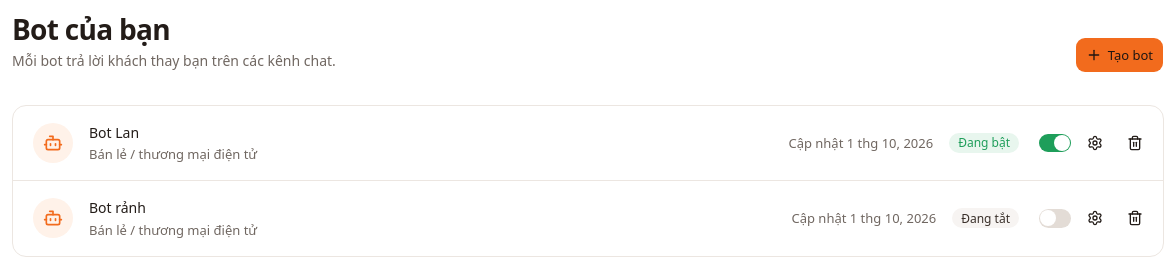
Test: keeps the direct switch pending and prevents duplicate requests
Click the switch named "Bật hoặc tắt bot Bot rảnh": (1055, 218) [1039, 209, 1071, 228]
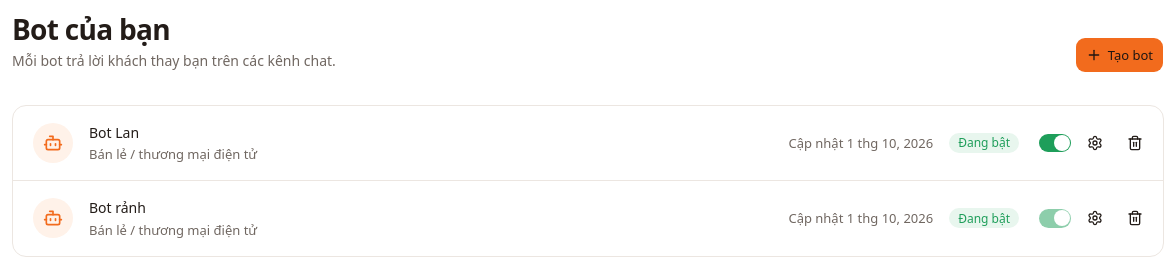
Expected: the switch named "Bật hoặc tắt bot Bot rảnh" is checked
Expected: the switch named "Bật hoặc tắt bot Bot rảnh" is disabled
Click the switch named "Bật hoặc tắt bot Bot rảnh": (1055, 218) [1039, 209, 1071, 228]
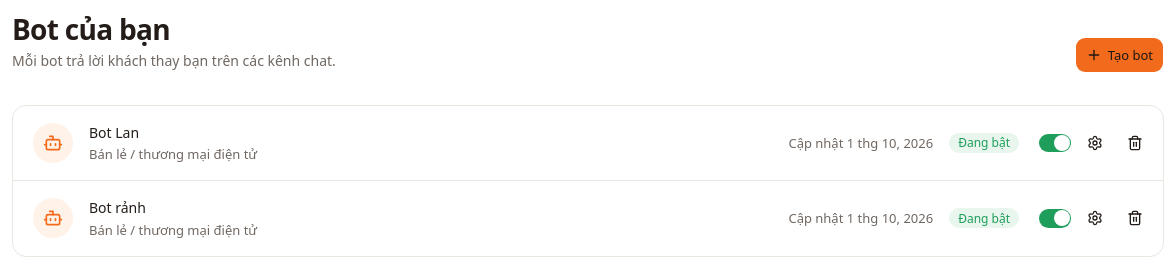
Expected: the switch named "Bật hoặc tắt bot Bot rảnh" is checked, [1039, 209, 1071, 228]
Expected: the switch named "Bật hoặc tắt bot Bot rảnh" is enabled, [1039, 209, 1071, 228]
